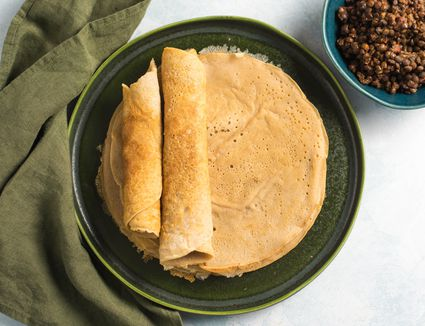dosa: (99, 46, 332, 282)
